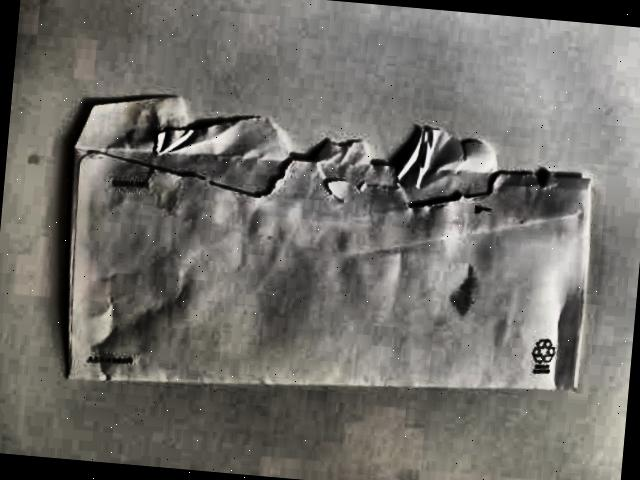Paper: (54, 81, 606, 433)
